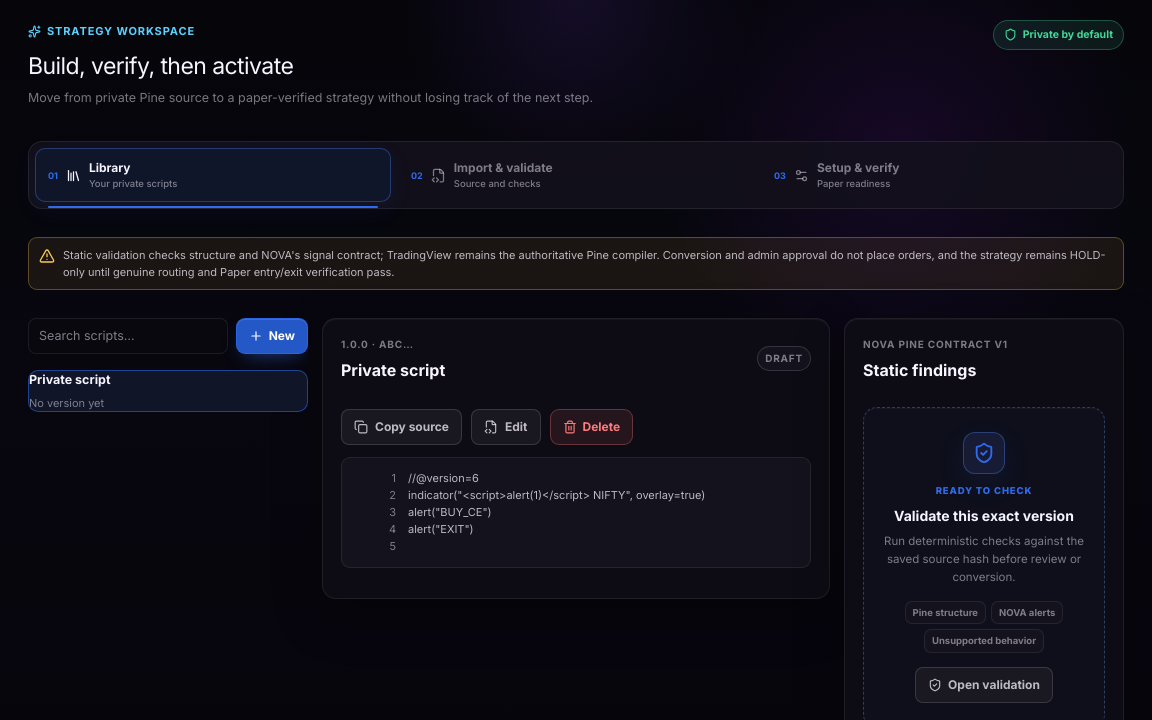
Test: ImportedPinePage › runs validation from the Static findings empty state
Click the button "Edit".
click(506, 427)  # box [471,409,540,445]
(page scrolled)
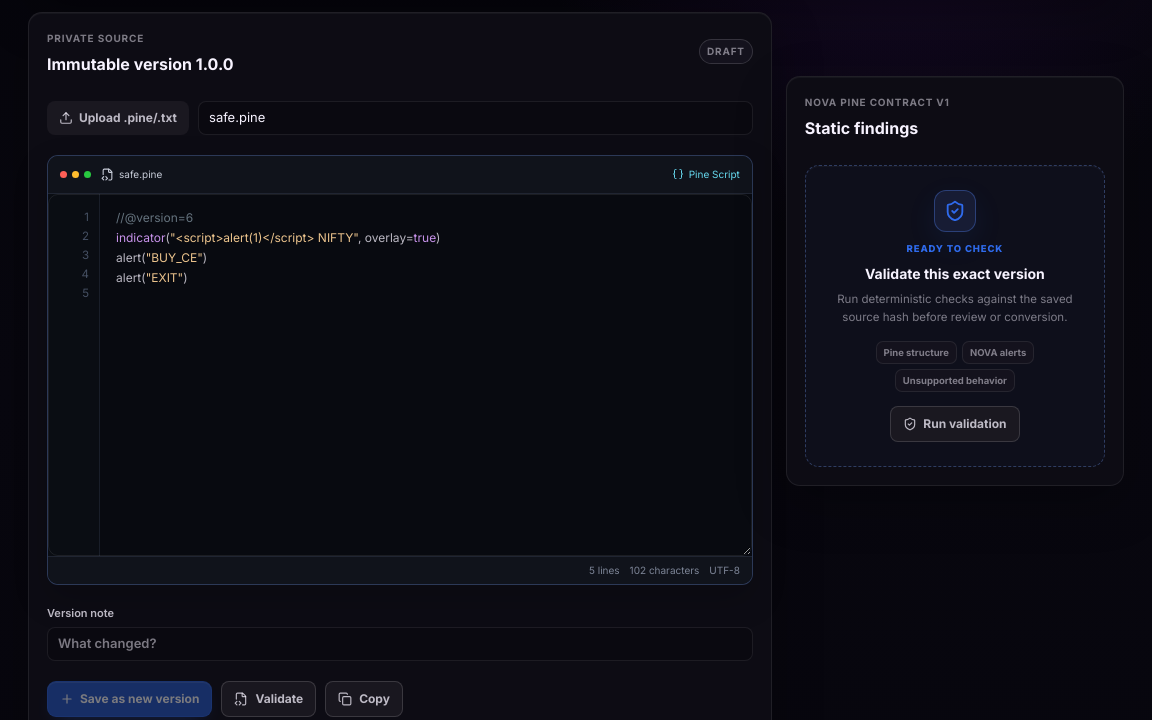
Expected: the text "Validate this exact version" is shown, [865,263,1045,284]
Click the button "Run validation".
click(955, 425)  # box [890,407,1020,443]
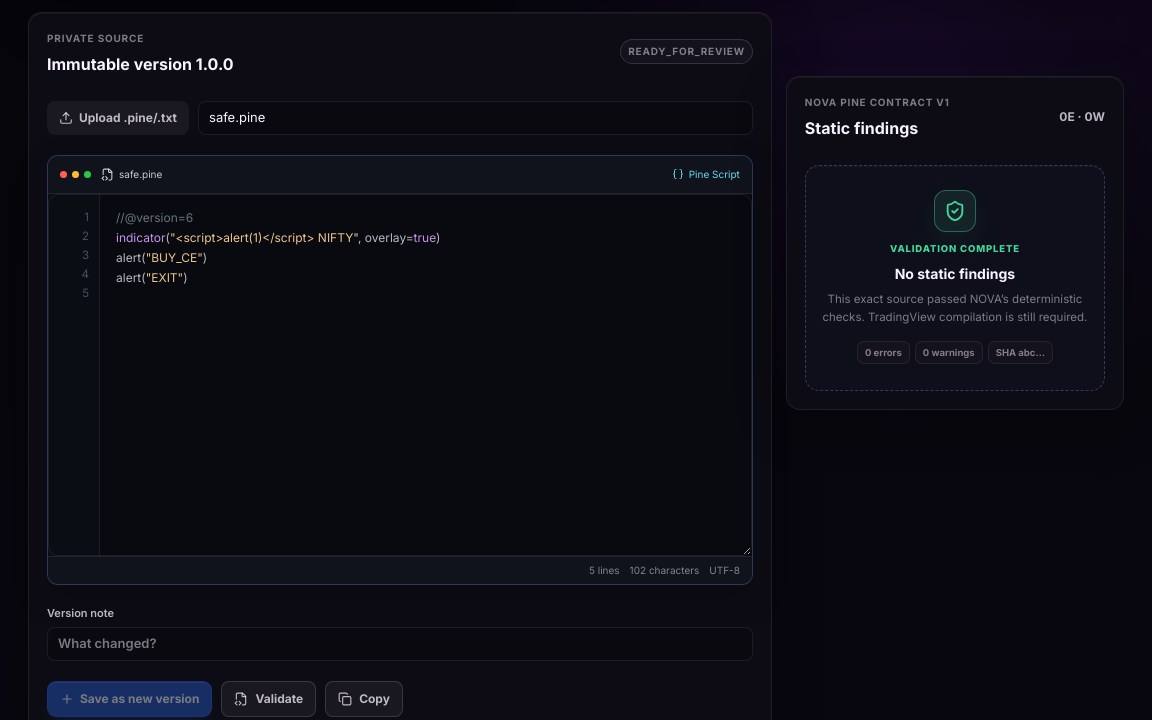
Expected: the text "No static findings" is shown, [895,263,1015,284]
